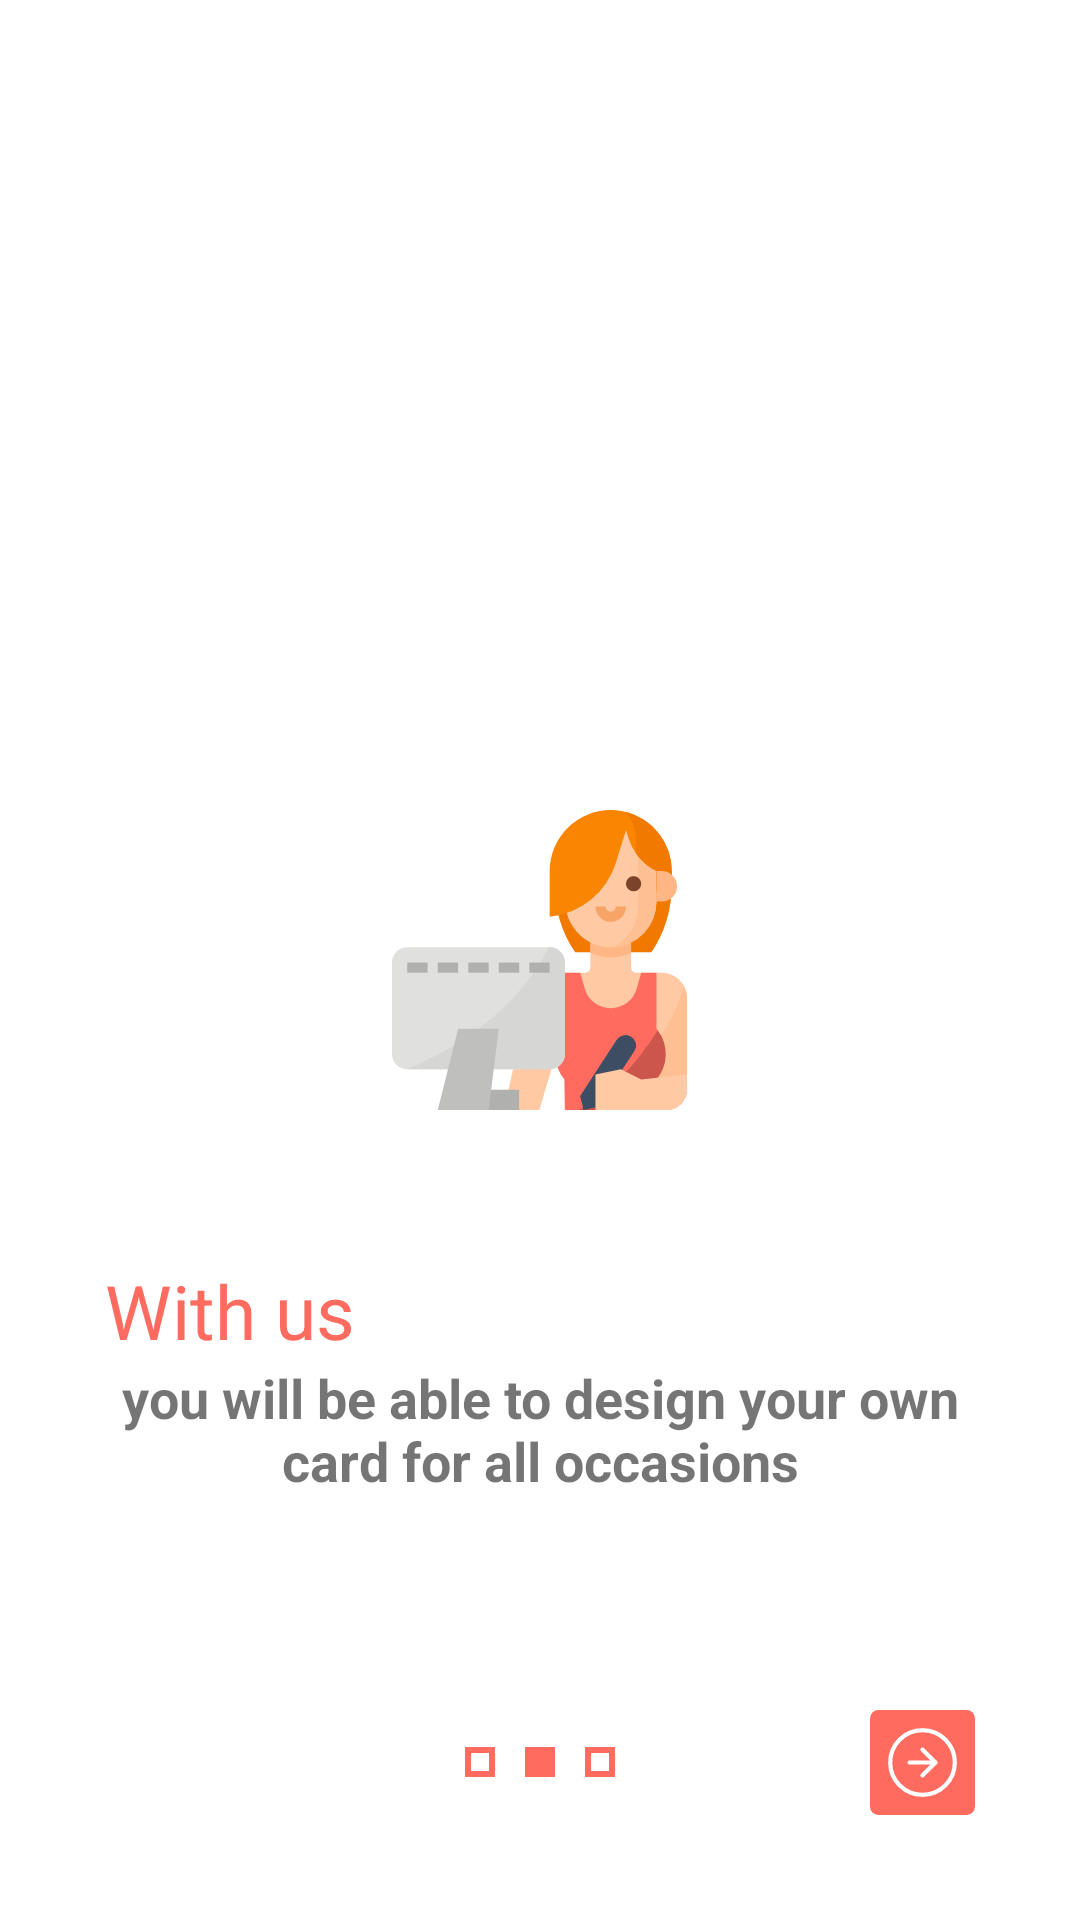

Screen size 1080×1920. Icon name, then its box in pixels as bbox(x1, y1, x2, y2):
next: bbox(870, 1710, 975, 1815)
